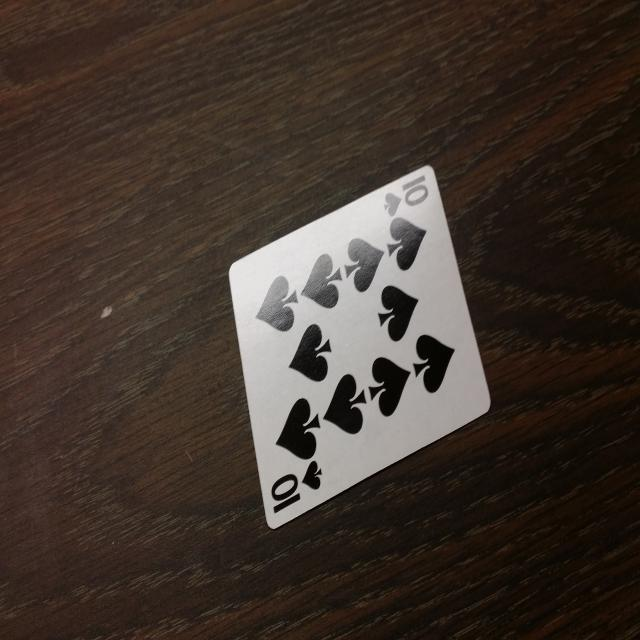10s: (267, 461, 327, 526), (381, 161, 428, 223)
